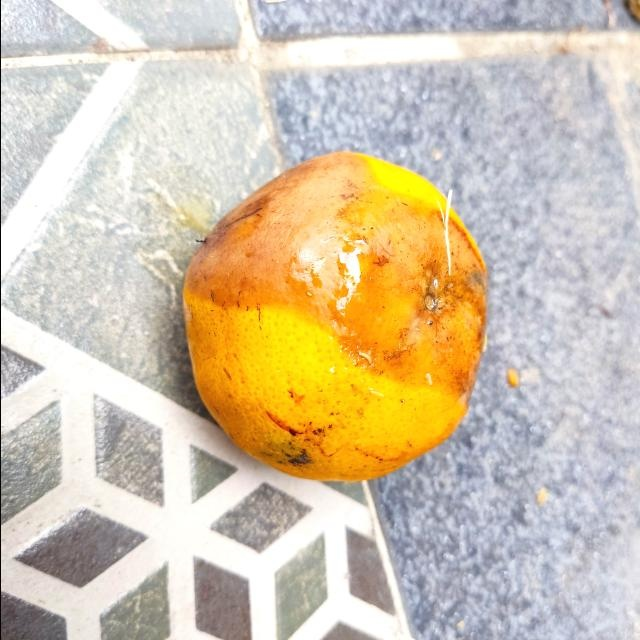agrume: (179, 149, 489, 487)
